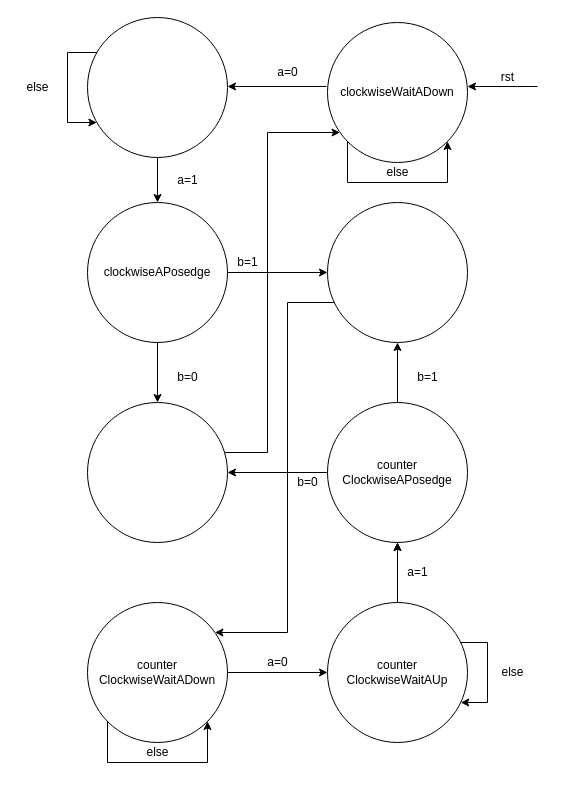
Some shapes in this 563 by 788 pixel diagram are drawn without their labels. The centre of each missing label's shape, as x and y in pixels:
"clockwiseCounter" belongs at (x=157, y=472).
"clockwiseWaitAUp" belongs at (x=157, y=87).
"counter ClockwiseCounter" belongs at (x=397, y=272).
